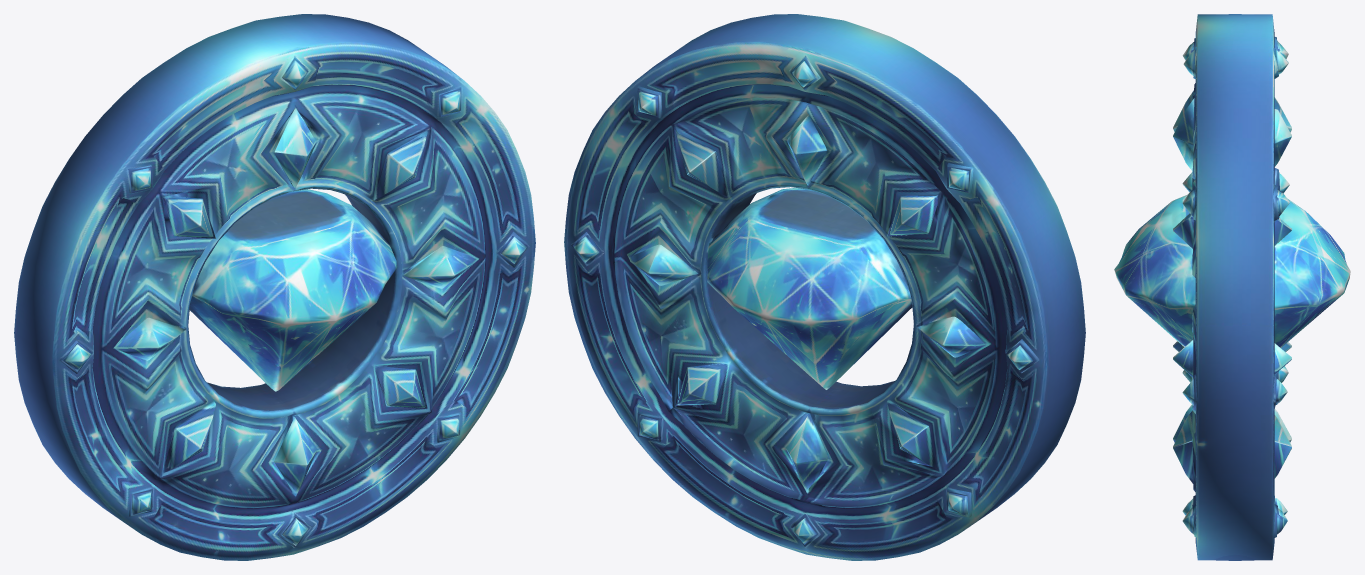
File: selected.glb
3 renders of one model, left to right at view 1: azimuth 30°, elevation 25°; view 2: azimuth 150°, elevation 25°; view 3: azimuth 270°, elevation 25°, orthographic. The views are drawn at different scales.
Visible parts, largest first — view 1: tripo_node_8053c281-3c3d-42da-825a-0c9337249bd9; view 2: tripo_node_8053c281-3c3d-42da-825a-0c9337249bd9; view 3: tripo_node_8053c281-3c3d-42da-825a-0c9337249bd9.
Part boxes in pixels (x1,y1,x2,y2): tripo_node_8053c281-3c3d-42da-825a-0c9337249bd9: (14, 14, 535, 560); tripo_node_8053c281-3c3d-42da-825a-0c9337249bd9: (564, 14, 1085, 560); tripo_node_8053c281-3c3d-42da-825a-0c9337249bd9: (1114, 14, 1350, 560).
Size of the model in its own units: 0.998 by 0.998 by 0.4316.
1 material, 1 textured.
